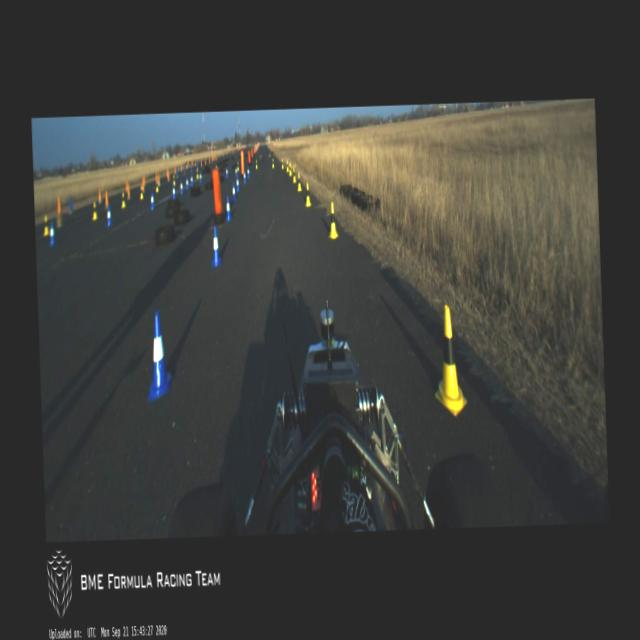blue_cone: (144, 309, 172, 402), (209, 222, 222, 268), (224, 195, 231, 222), (49, 220, 54, 246), (230, 182, 236, 202), (106, 205, 111, 226), (234, 175, 240, 192), (150, 192, 154, 210), (172, 185, 176, 199), (224, 166, 228, 178), (243, 170, 246, 183), (185, 176, 188, 189), (247, 166, 250, 178), (199, 172, 202, 184), (180, 180, 182, 195), (235, 165, 237, 178), (190, 173, 192, 186)
unknown_cone: (56, 193, 62, 226), (126, 182, 131, 200), (104, 190, 108, 208)
yellow_cone: (432, 302, 467, 418), (327, 201, 338, 238), (42, 212, 49, 235), (304, 181, 310, 206), (91, 202, 98, 219), (120, 192, 126, 208), (296, 172, 301, 191), (292, 166, 296, 182), (288, 162, 292, 176), (154, 178, 158, 192), (140, 186, 144, 198), (172, 174, 175, 186), (286, 160, 288, 172), (236, 160, 238, 172), (281, 158, 283, 169), (255, 158, 257, 169), (272, 158, 274, 168), (196, 168, 198, 178)
